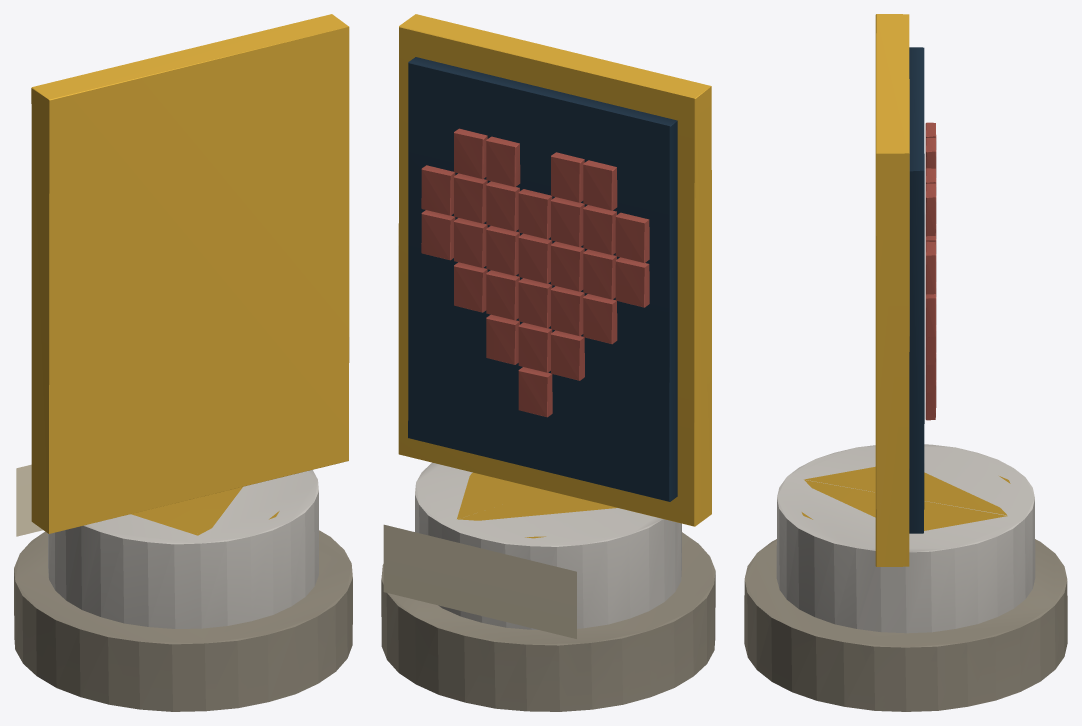
The model's file is trophy_nonogram_low.glb.
3 renders of one model, left to right at view 1: azimuth 30°, elevation 25°; view 2: azimuth 150°, elevation 25°; view 3: azimuth 270°, elevation 25°, orthographic. The views are drawn at different scales.
Visible parts, largest first — view 1: symbol, common_pedestal, trophy_plate; view 2: symbol, common_pedestal, trophy_plate; view 3: common_pedestal, symbol.
Boxes of the visible parts, <box> form: symbol: <box>31,14,349,533</box>; common_pedestal: <box>14,470,352,711</box>; trophy_plate: <box>16,464,42,536</box>; symbol: <box>398,14,711,526</box>; common_pedestal: <box>381,462,715,711</box>; trophy_plate: <box>383,524,576,638</box>; common_pedestal: <box>744,444,1067,711</box>; symbol: <box>875,14,936,566</box>.
Bounding box in the file's own units: 0.919 × 1.72 × 0.8987.
